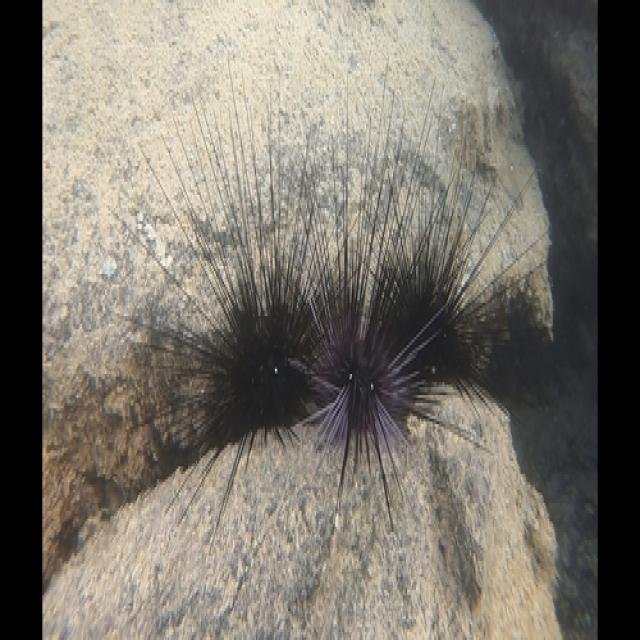Urchin: (110, 63, 342, 527), (305, 113, 494, 535), (348, 98, 552, 392)
